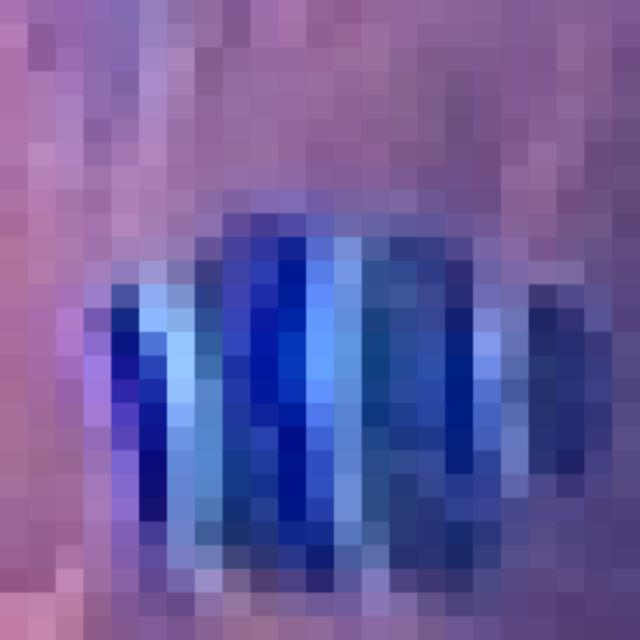fish: (28, 23, 640, 640)
